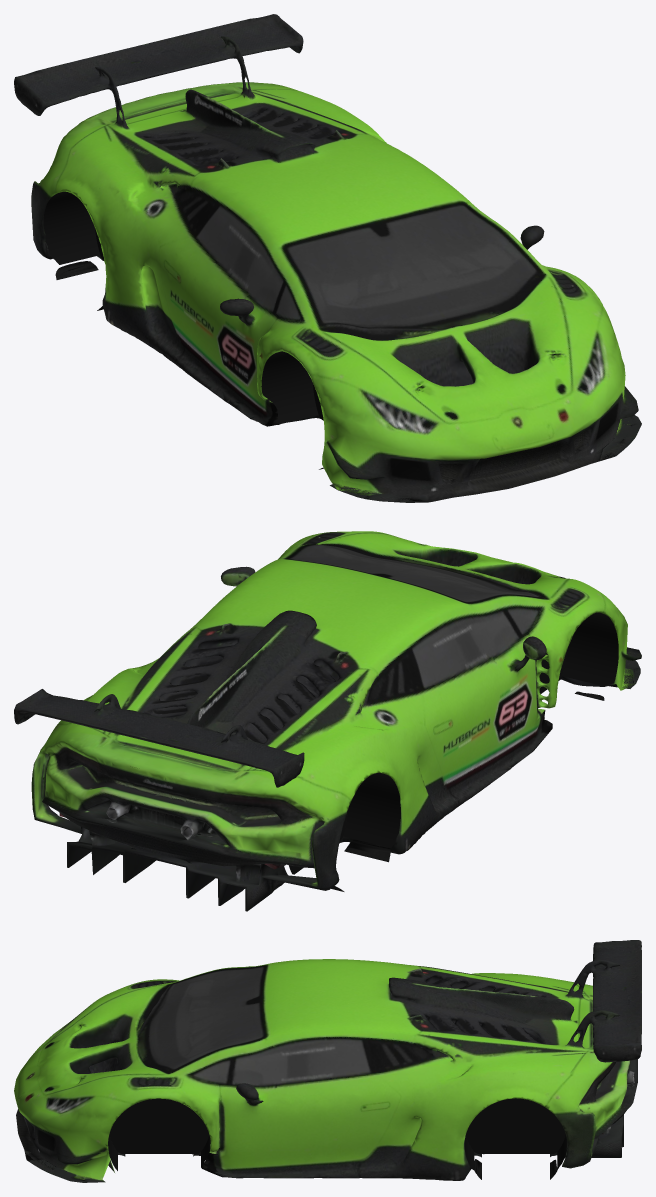
Rendered from lambo_huracan_body.glb.
The picture shows the model from 3 angles, top to bottom: view 1: azimuth 30°, elevation 25°; view 2: azimuth 150°, elevation 25°; view 3: azimuth 270°, elevation 25°; orthographic projection. The views are drawn at different scales.
Parts seen in each view (by area): view 1: LamboHuracan_Body; view 2: LamboHuracan_Body; view 3: LamboHuracan_Body.
Boxes of the visible parts, bbox=[...] form: LamboHuracan_Body: bbox=[14, 14, 641, 502]; LamboHuracan_Body: bbox=[14, 531, 641, 911]; LamboHuracan_Body: bbox=[14, 940, 641, 1182].
Bounding box in the file's own units: 2.19 × 1.12 × 4.54.
Materials: 2 (1 with a texture image).
